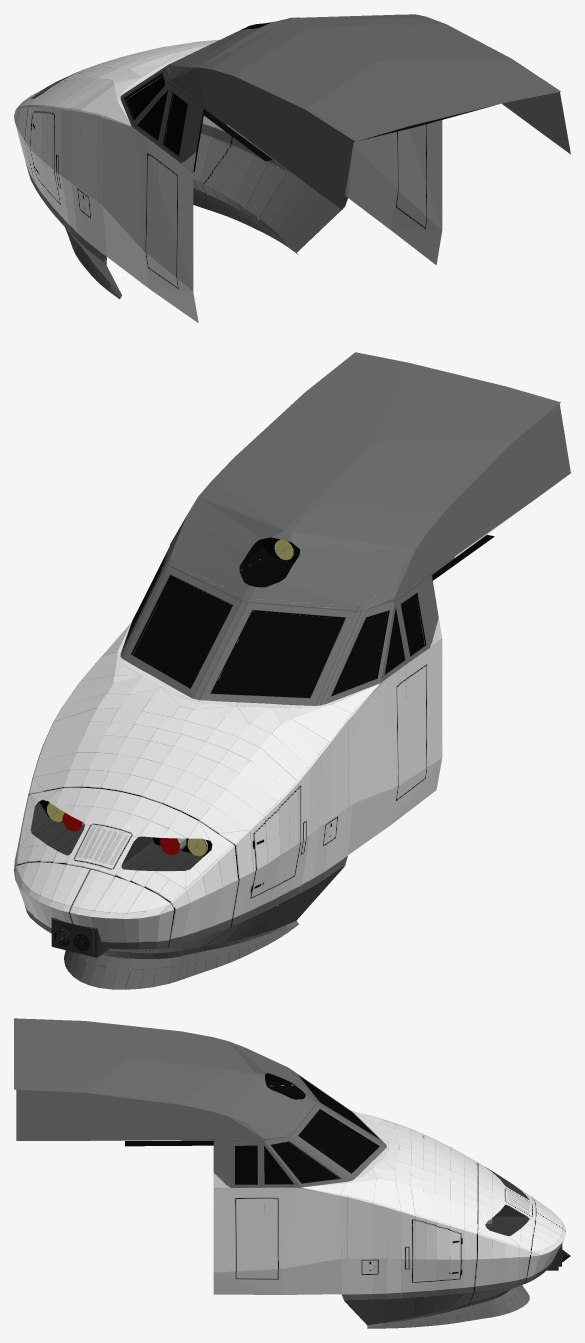
File: tgv_atlantique_blanc_obj.obj
3 views of the same model, one above another, from view 1: azimuth 30°, elevation 25°; view 2: azimuth 150°, elevation 25°; view 3: azimuth 270°, elevation 25° (orthographic). The views are drawn at different scales.
Parts seen in each view (by area): view 1: car1_exterior, car1_glass, car1_interior; view 2: car1_exterior, car1_glass, car1_coupler_closed, car1_coupler_open, car1_light_yellow; view 3: car1_exterior, car1_glass, car1_coupler_closed, car1_interior.
Part boxes in pixels (box(x1,y1,x2,y2)): car1_exterior: box(14, 14, 570, 322); car1_glass: box(127, 76, 187, 154); car1_interior: box(124, 98, 494, 171); car1_exterior: box(14, 352, 570, 989); car1_glass: box(133, 576, 424, 697); car1_coupler_closed: box(14, 862, 174, 951); car1_coupler_open: box(40, 864, 155, 957); car1_light_yellow: box(47, 539, 293, 856); car1_exterior: box(14, 1018, 536, 1328); car1_glass: box(235, 1081, 378, 1184); car1_coupler_closed: box(526, 1198, 565, 1283); car1_interior: box(125, 1139, 213, 1146).
Size of the model in its own units: 2.92 by 3.82 by 7.85.
1 material, 1 textured.
